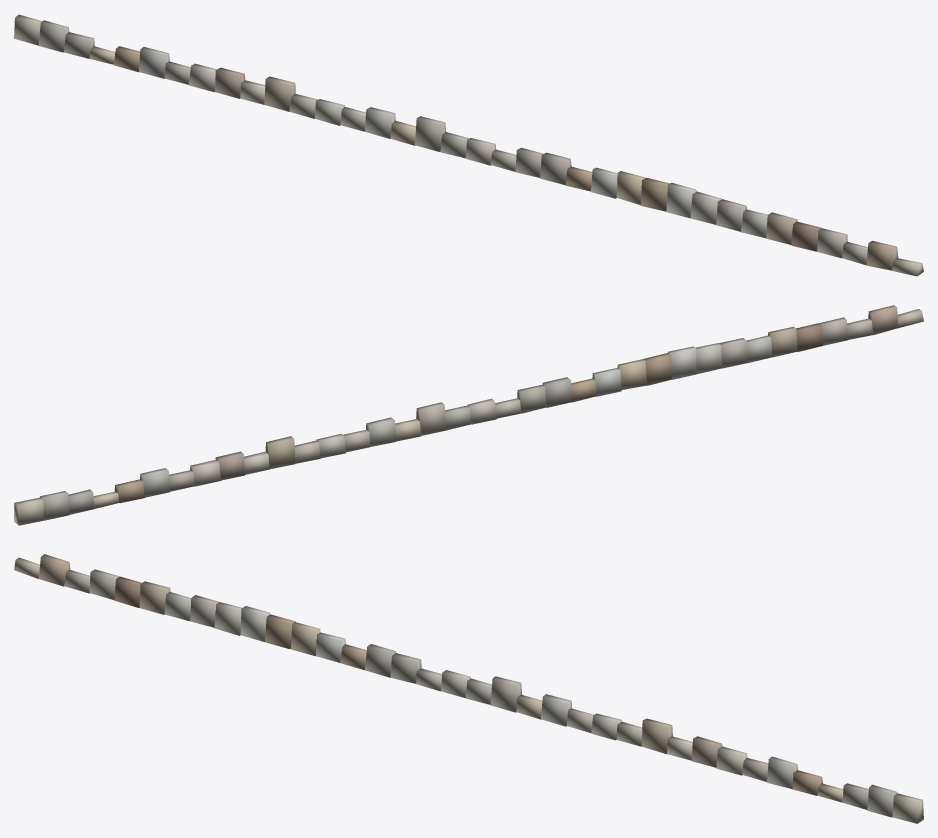
The model's file is farm_-11_-10_far.glb.
The picture shows the model from 3 angles, top to bottom: view 1: azimuth 90°, elevation 25°; view 2: azimuth 150°, elevation 25°; view 3: azimuth 270°, elevation 25°; orthographic projection. The views are drawn at different scales.
Parts seen in each view (by area): view 1: geometry_0; view 2: geometry_0; view 3: geometry_0.
Boxes of the visible parts, x1,y1,x2,y2 form: geometry_0: [14, 14, 923, 276]; geometry_0: [14, 305, 923, 525]; geometry_0: [14, 554, 923, 823].
Size of the model in its own units: 31.45 by 1.8 by 48.35.
